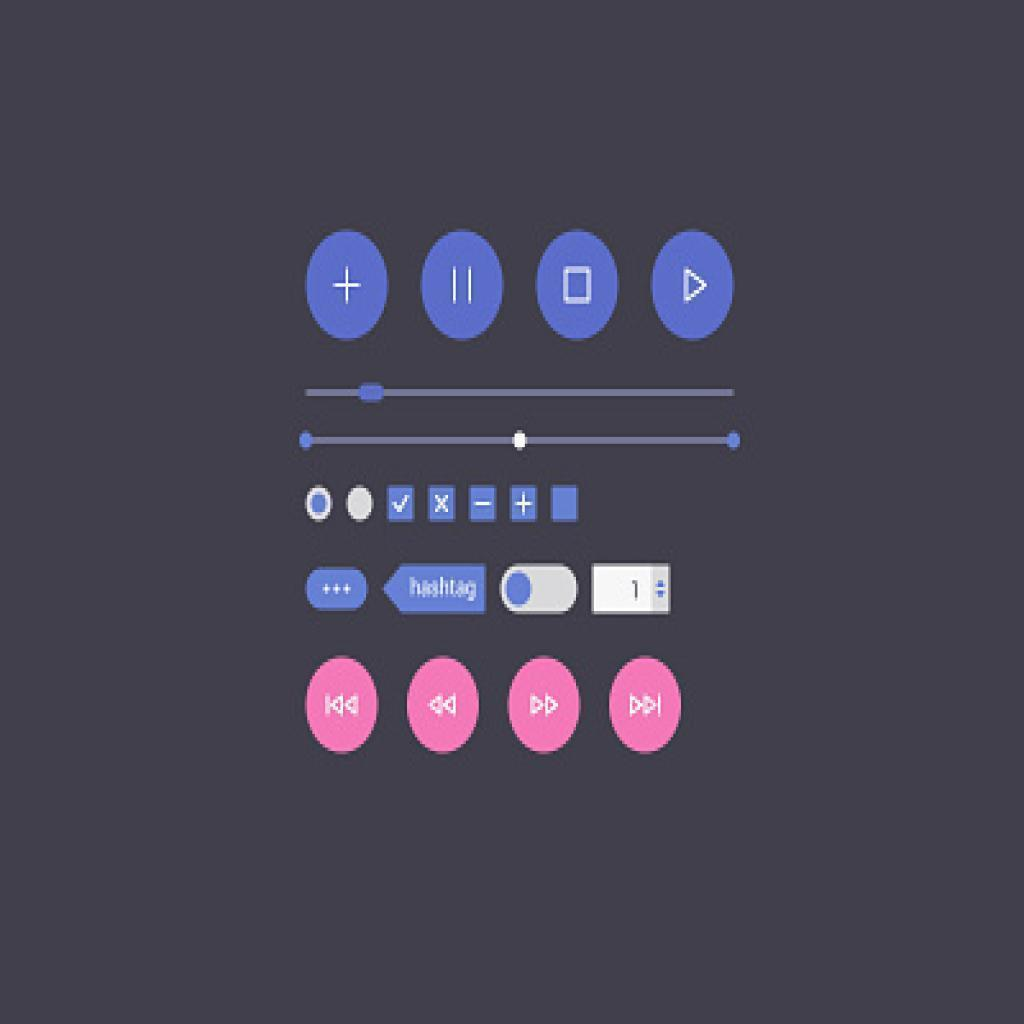checkbox: (386, 483, 415, 522)
icon: (329, 263, 366, 310), (677, 263, 710, 304), (626, 690, 666, 722), (322, 690, 362, 721), (527, 692, 561, 721), (426, 690, 459, 718), (316, 579, 358, 599), (564, 269, 587, 302)
radio: (301, 481, 337, 530), (343, 480, 376, 530)
switch: (501, 560, 580, 617)
